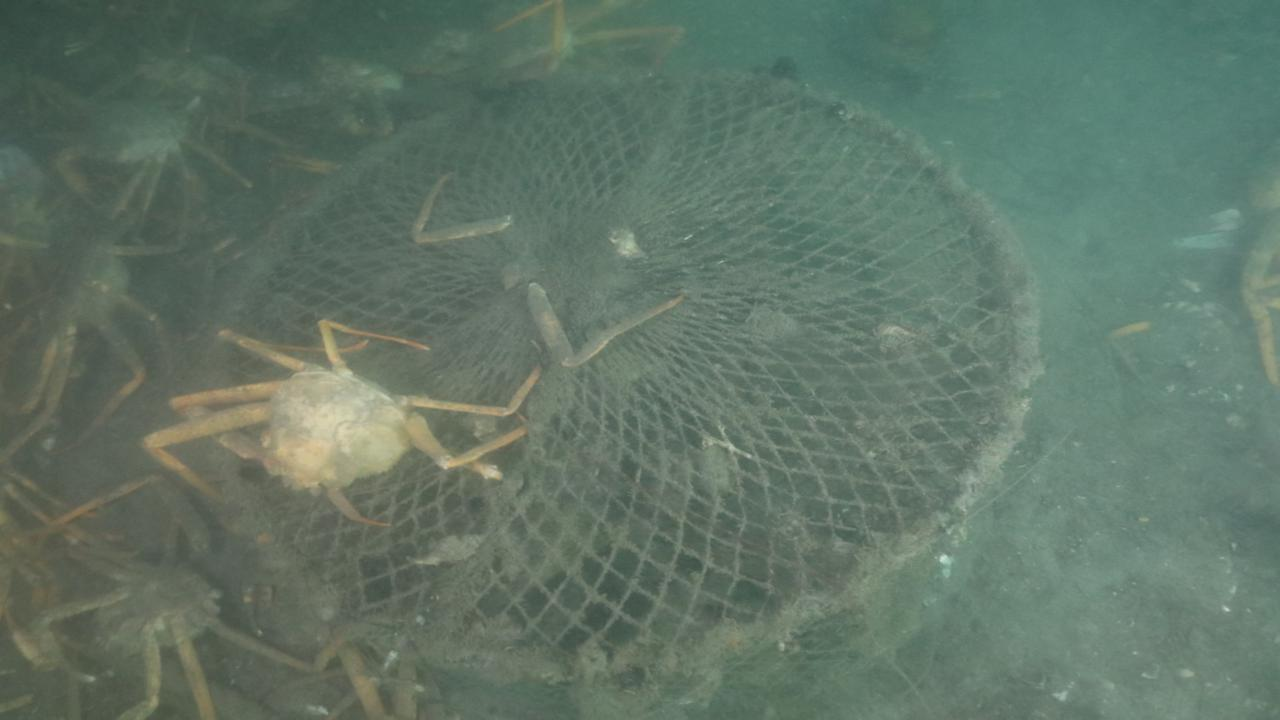circular fish trap: (200, 67, 1040, 676)
